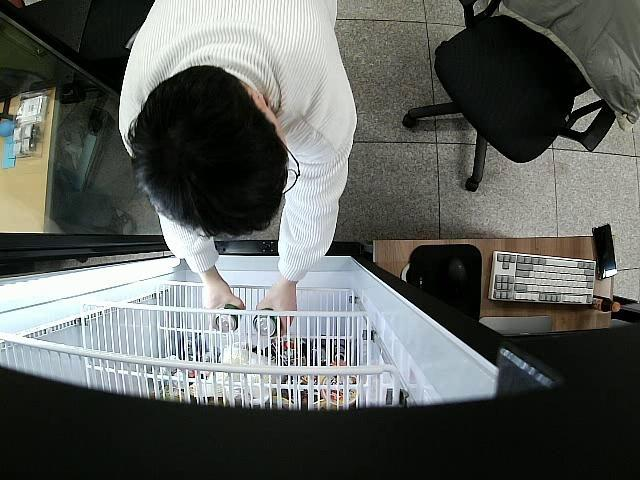12_chilsungCider: (253, 306, 280, 337), (216, 306, 240, 332)
